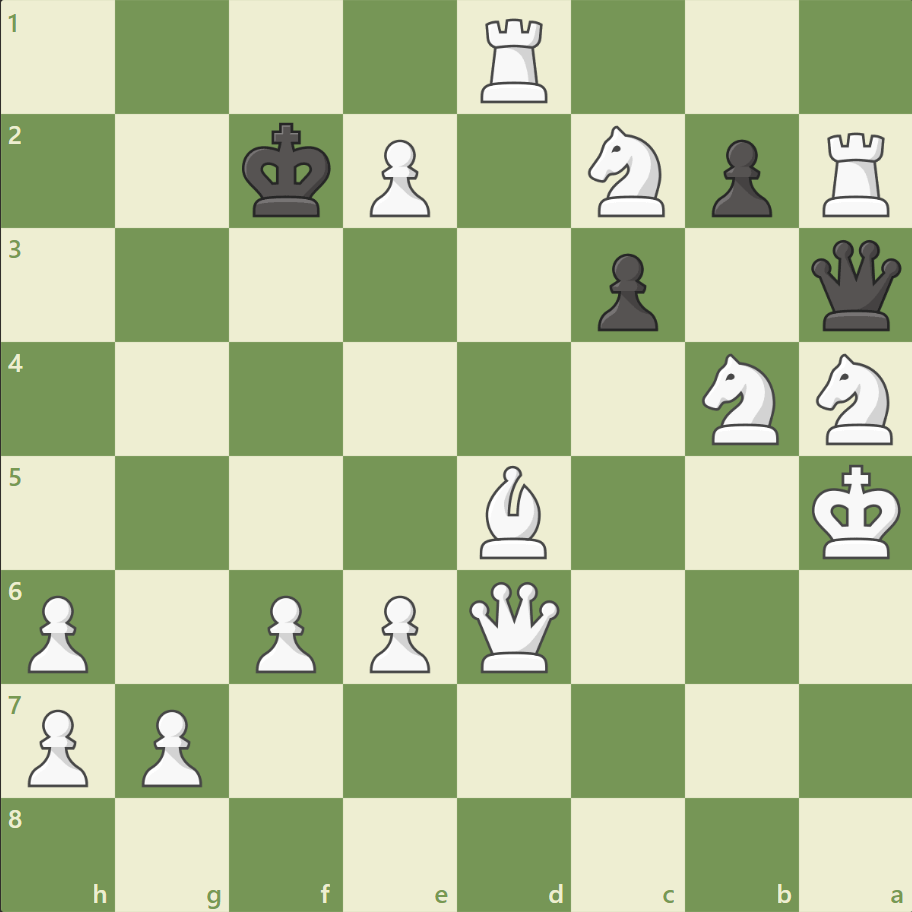B: (471, 460, 555, 563)
K: (806, 458, 906, 566)
N: (806, 348, 903, 450), (692, 348, 789, 450), (579, 121, 676, 223)
P: (133, 700, 208, 791), (20, 700, 95, 791), (247, 586, 322, 677), (20, 586, 95, 677), (361, 586, 435, 677), (361, 132, 435, 223)
Q: (464, 576, 563, 676)
R: (814, 125, 897, 222), (473, 12, 556, 109)
k: (238, 117, 338, 225)
p: (701, 132, 776, 223), (588, 246, 662, 337)
q: (805, 236, 904, 335)
